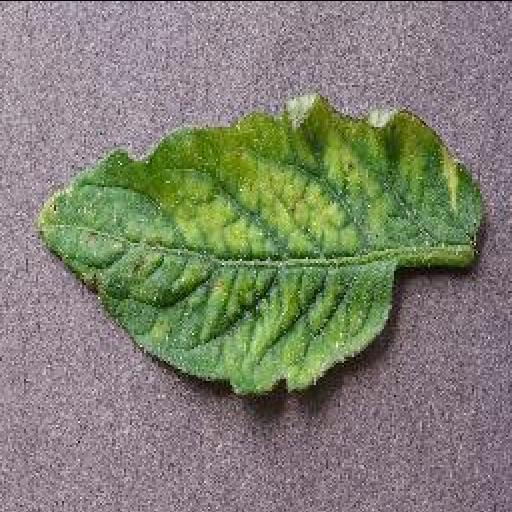Mosaic Virus: (36, 92, 486, 398)
